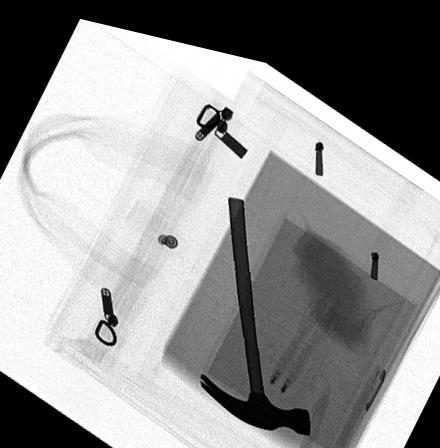Hammer: (198, 184, 310, 420)
